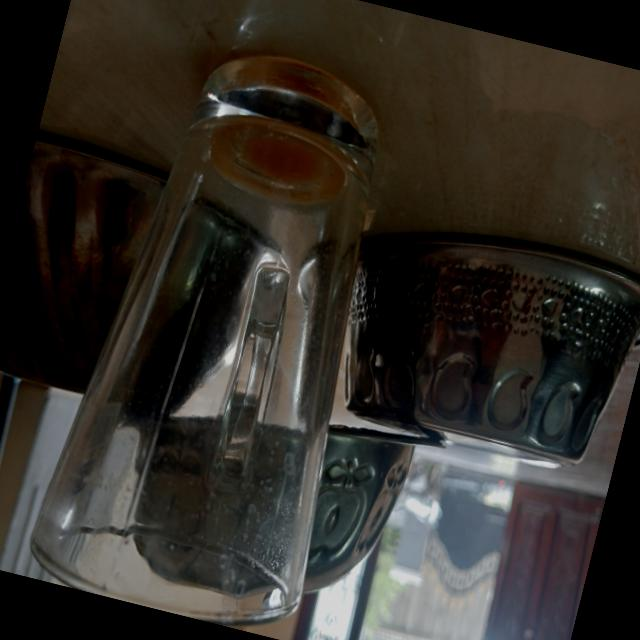glass-VX4N: (19, 23, 438, 640)
